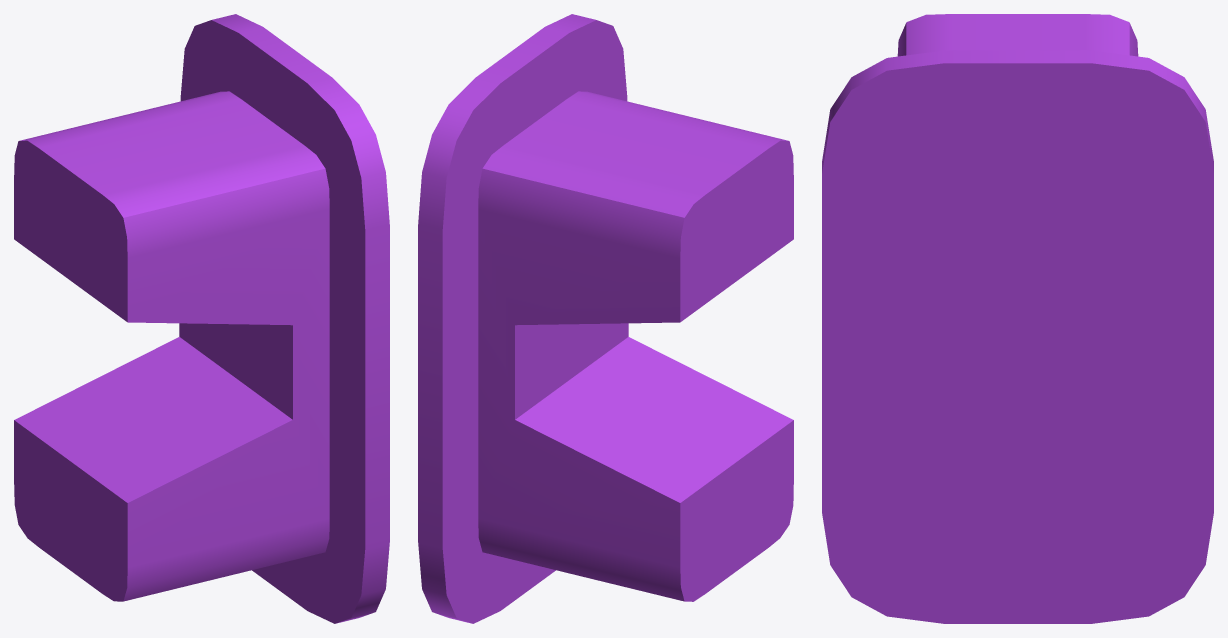
The model's file is Rallings_ColumnConnector_B.FBX.
3 views of the same model, side by side, from view 1: azimuth 30°, elevation 25°; view 2: azimuth 150°, elevation 25°; view 3: azimuth 270°, elevation 25° (orthographic). The views are drawn at different scales.
Parts seen in each view (by area): view 1: Rallings_ColumnConnector_B; view 2: Rallings_ColumnConnector_B; view 3: Rallings_ColumnConnector_B.
Boxes of the visible parts, x1=… form: Rallings_ColumnConnector_B: x1=14, y1=14, x2=389, y2=623; Rallings_ColumnConnector_B: x1=418, y1=14, x2=793, y2=623; Rallings_ColumnConnector_B: x1=822, y1=14, x2=1213, y2=623.
Size of the model in its own units: 18.45 by 41.04 by 26.
